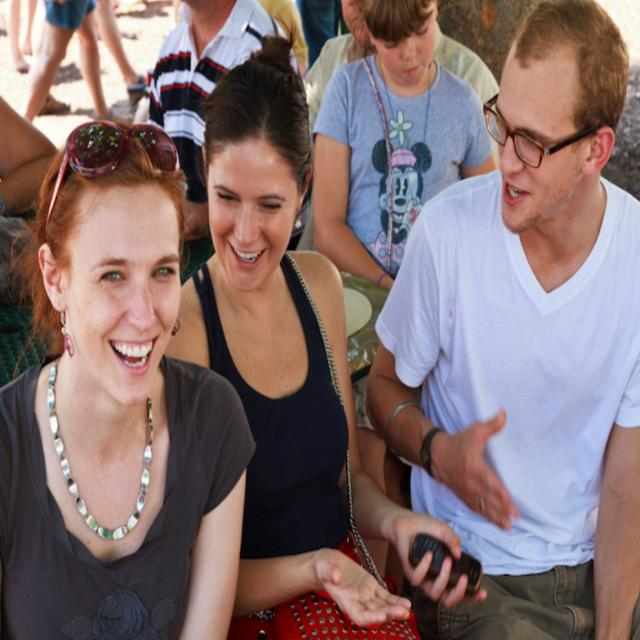Glasses: (480, 94, 605, 170)
